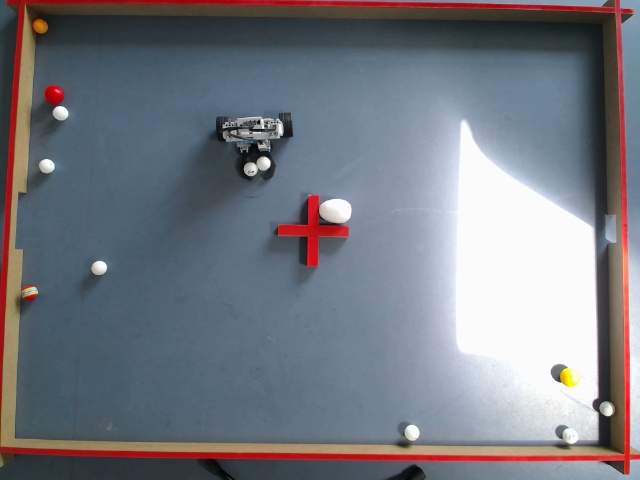big_goal: (15, 192, 27, 249)
cross: (276, 195, 348, 267)
egg: (318, 198, 351, 224)
orange: (32, 17, 48, 35)
robot: (215, 111, 293, 182)
small_goal: (604, 215, 616, 242)
wall: (15, 15, 610, 446)
white: (90, 260, 106, 276), (52, 105, 68, 120), (38, 159, 54, 173), (598, 401, 615, 414), (562, 426, 576, 441), (404, 425, 418, 438), (256, 156, 268, 170), (243, 162, 256, 174)
